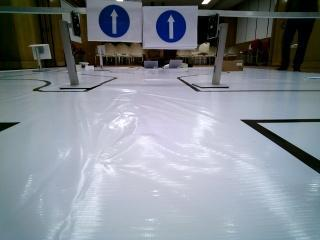straight: (83, 0, 143, 42), (146, 6, 198, 47)
